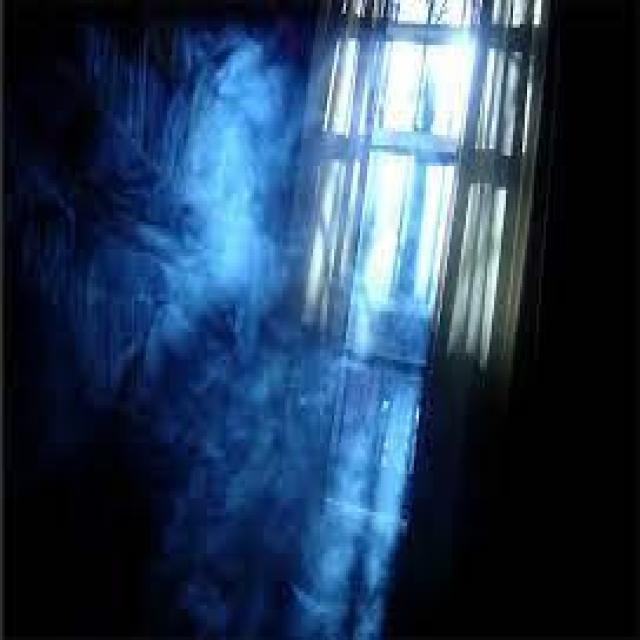Smoke: (49, 43, 404, 632)
